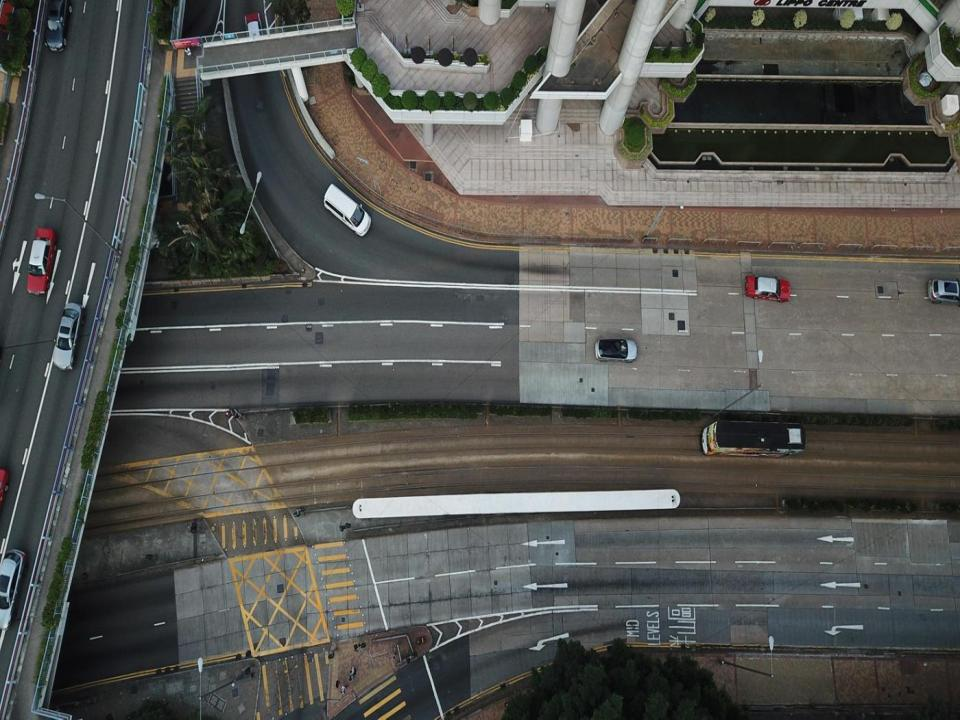bus: (698, 416, 805, 458)
car: (1, 546, 26, 632), (51, 302, 80, 373), (26, 228, 54, 294), (39, 0, 69, 52), (742, 274, 791, 302), (594, 338, 641, 363), (241, 12, 263, 57), (926, 275, 960, 303)
van: (322, 181, 374, 237)
